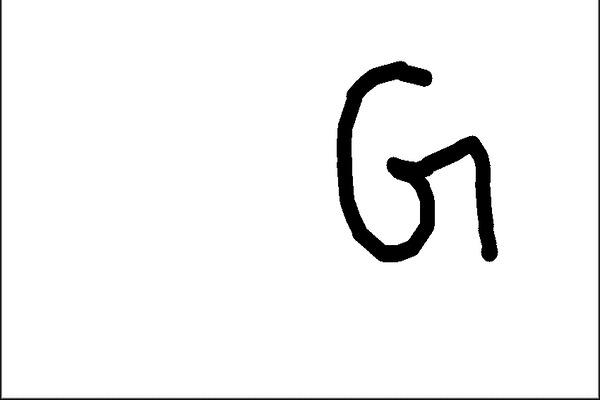G: (329, 57, 502, 268)
